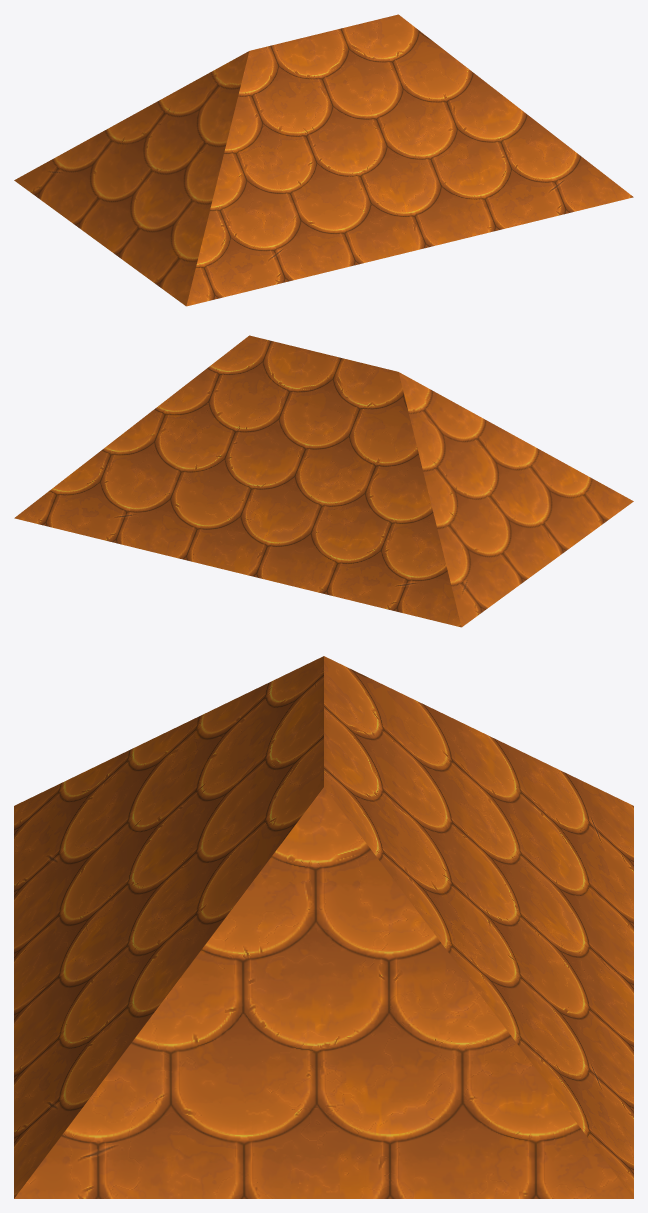
The model's file is 11glb.glb.
3 views of the same model, one above another, from view 1: azimuth 30°, elevation 25°; view 2: azimuth 150°, elevation 25°; view 3: azimuth 270°, elevation 25° (orthographic). The views are drawn at different scales.
Parts seen in each view (by area): view 1: Plane; view 2: Plane; view 3: Plane.
Boxes of the visible parts, box(x1,y1,x2,y2) form: Plane: box(14, 14, 633, 306); Plane: box(14, 335, 633, 627); Plane: box(14, 656, 633, 1198).
Bounding box in the file's own units: 12.75 × 4.25 × 8.5.
Materials: 1 (1 with a texture image).
